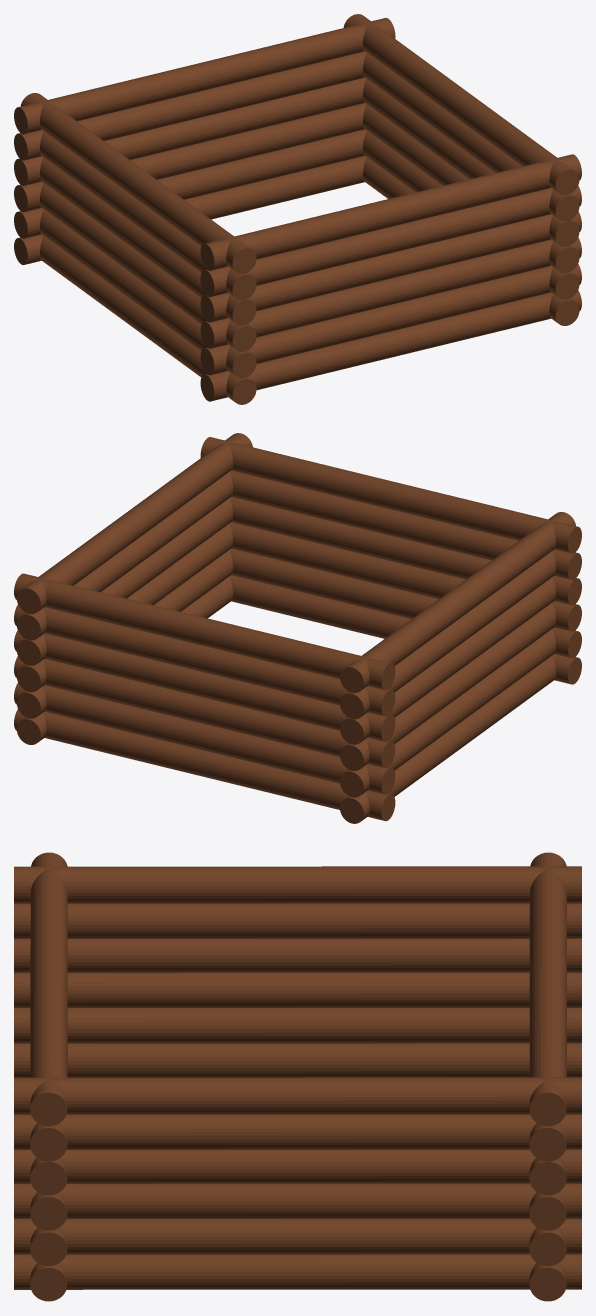
Rendered from wood.fbx.
3 views of the same model, one above another, from view 1: azimuth 30°, elevation 25°; view 2: azimuth 150°, elevation 25°; view 3: azimuth 270°, elevation 25° (orthographic). The views are drawn at different scales.
Visible parts, largest first — view 1: Cylinder.019, Cylinder.016, Cylinder.022, Cylinder.018, Cylinder.020, Cylinder.023, Cylinder.021, Cylinder.017, Cylinder.007, Cylinder.004, Cylinder.014, Cylinder.015 (+12 smaller); view 2: Cylinder.016, Cylinder.019, Cylinder.013, Cylinder.017, Cylinder.012, Cylinder.015, Cylinder.014, Cylinder.018, Cylinder.007, Cylinder.004, Cylinder.021, Cylinder.020 (+12 smaller); view 3: Cylinder.007, Cylinder.004, Cylinder.010, Cylinder.011, Cylinder.006, Cylinder.008, Cylinder.001, Cylinder.005, Cylinder.003, Cylinder, Cylinder.009, Cylinder.002 (+12 smaller).
Boxes of the visible parts, x1,y1,x2,y2 form: Cylinder.019: (200,154,581,270); Cylinder.016: (14,18,395,134); Cylinder.022: (200,264,581,375); Cylinder.018: (200,186,581,296); Cylinder.020: (200,237,581,348); Cylinder.023: (200,290,581,401); Cylinder.021: (200,211,581,322); Cylinder.017: (14,51,366,160); Cylinder.007: (343,14,579,195); Cylinder.004: (20,93,256,273); Cylinder.014: (14,77,365,185); Cylinder.015: (14,103,366,212); Cylinder.016: (14,573,395,690); Cylinder.019: (200,437,581,553); Cylinder.013: (14,682,395,794); Cylinder.017: (14,604,395,716); Cylinder.012: (14,709,395,821); Cylinder.015: (14,656,395,768); Cylinder.014: (14,630,395,741); Cylinder.018: (229,470,581,579); Cylinder.007: (16,433,252,614); Cylinder.004: (340,512,575,692); Cylinder.021: (230,497,581,605); Cylinder.020: (229,522,581,631); Cylinder.007: (14,1077,581,1114); Cylinder.004: (14,866,581,903); Cylinder.010: (14,1219,581,1254); Cylinder.011: (14,1254,581,1289); Cylinder.006: (14,1114,581,1149); Cylinder.008: (14,1183,581,1218); Cylinder.001: (14,1008,581,1043); Cylinder.005: (14,903,581,938); Cylinder.003: (14,972,581,1007); Cylinder: (14,1043,581,1077); Cylinder.009: (14,1149,581,1183); Cylinder.002: (14,938,581,972).
Size of the model in its own units: 1413 by 574 by 1413.
